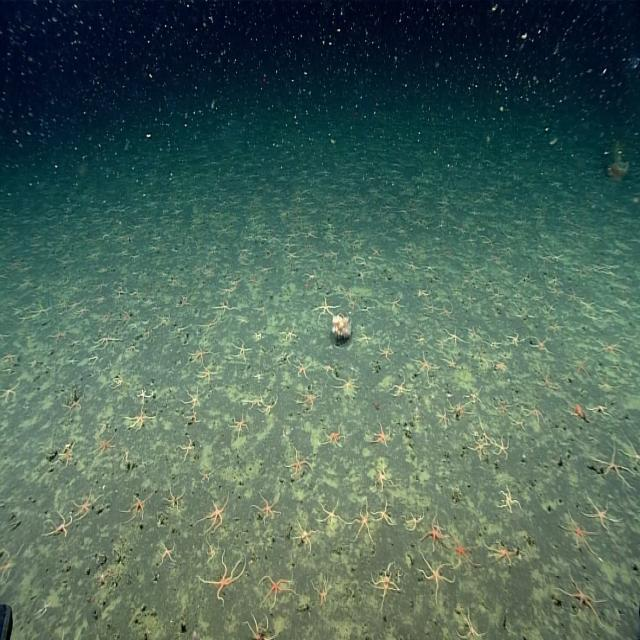brittle-stars: (556, 565, 608, 629), (198, 550, 250, 610), (588, 438, 638, 492), (558, 506, 602, 562), (415, 550, 458, 606), (579, 490, 623, 541), (369, 558, 405, 610), (442, 526, 481, 572), (258, 572, 299, 615), (482, 532, 520, 576), (418, 509, 450, 557), (195, 492, 229, 534), (409, 348, 444, 383), (453, 601, 484, 640), (69, 486, 101, 522), (317, 497, 348, 534), (250, 488, 280, 526), (118, 492, 153, 524), (41, 508, 75, 540), (291, 515, 316, 558), (492, 482, 523, 516), (282, 444, 313, 478), (330, 371, 364, 402), (530, 360, 564, 391), (368, 496, 398, 530), (243, 611, 277, 640), (122, 402, 156, 430), (319, 418, 347, 451), (465, 427, 491, 460), (310, 570, 332, 608), (444, 396, 472, 424), (370, 419, 396, 448), (526, 333, 556, 358), (295, 387, 323, 413), (162, 484, 186, 514), (91, 433, 118, 459), (388, 373, 414, 400), (155, 538, 179, 567), (228, 411, 252, 440), (186, 341, 213, 366), (441, 326, 469, 350), (401, 508, 426, 534), (60, 390, 87, 414), (492, 429, 511, 462), (490, 396, 515, 421), (459, 382, 484, 407), (311, 294, 337, 318), (199, 312, 223, 338), (56, 439, 76, 470), (258, 393, 282, 418), (211, 294, 235, 319), (565, 399, 589, 424), (354, 322, 377, 347), (380, 290, 405, 313), (180, 386, 202, 412), (340, 286, 360, 314), (408, 327, 432, 350), (174, 436, 196, 461), (374, 338, 396, 363), (194, 362, 216, 387), (230, 337, 251, 363), (90, 332, 120, 349), (586, 402, 614, 420), (0, 379, 20, 404), (465, 323, 485, 348), (215, 277, 241, 296), (147, 310, 174, 328), (523, 403, 546, 424), (374, 463, 389, 494), (241, 392, 263, 413), (486, 355, 509, 375), (301, 265, 319, 290), (483, 334, 503, 356), (294, 357, 312, 381), (135, 385, 155, 406), (117, 305, 135, 328), (44, 326, 68, 343), (435, 406, 453, 428), (70, 302, 91, 320), (506, 329, 521, 354), (412, 284, 434, 301), (182, 408, 202, 426), (437, 301, 455, 321), (439, 354, 459, 372), (510, 414, 528, 432), (275, 351, 293, 369), (196, 466, 212, 486), (110, 372, 127, 390), (283, 325, 298, 344)
